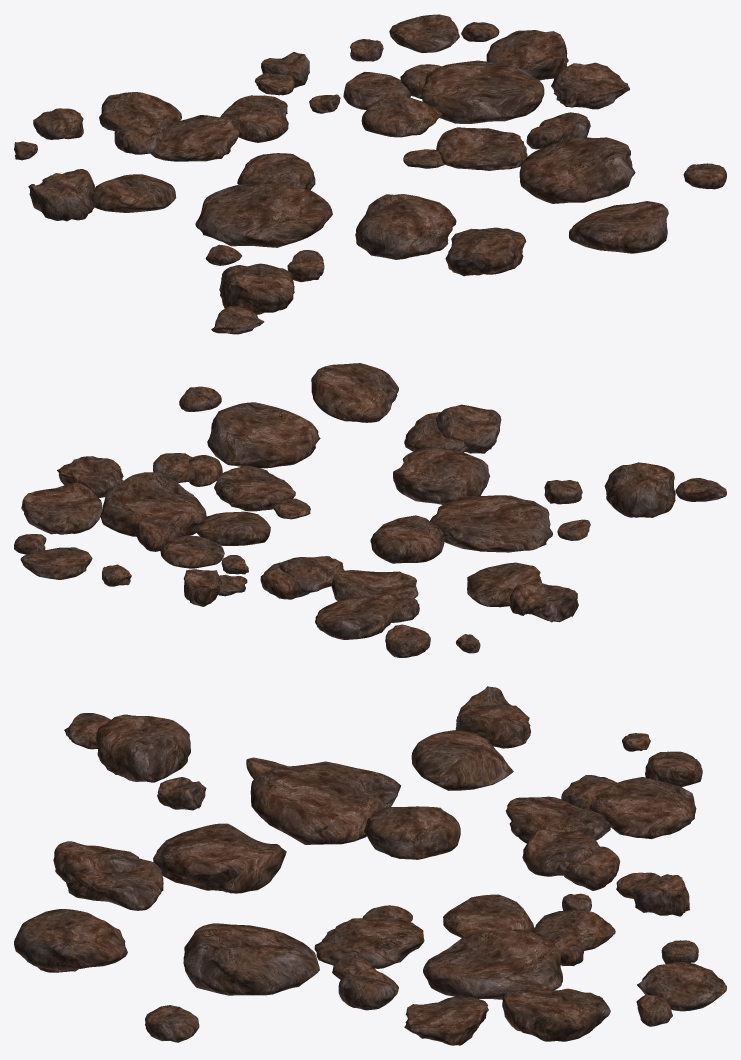
File: shitou_3.fbx
The picture shows the model from 3 angles, top to bottom: view 1: azimuth 30°, elevation 25°; view 2: azimuth 150°, elevation 25°; view 3: azimuth 270°, elevation 25°; orthographic projection. The views are drawn at different scales.
Parts seen in each view (by area): view 1: shitou_2:polySurface1; view 2: shitou_2:polySurface1; view 3: shitou_2:polySurface1.
Part boxes in pixels (x1,y1,x2,y2): shitou_2:polySurface1: (14, 14, 726, 334); shitou_2:polySurface1: (14, 363, 726, 657); shitou_2:polySurface1: (14, 686, 726, 1045).
Bounding box in the file's own units: 704 × 52.34 × 643.
Materials: 1 (1 with a texture image).
